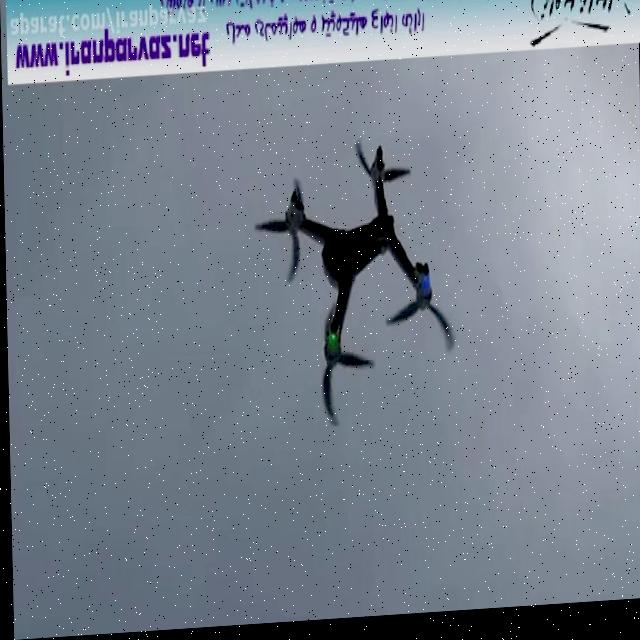drone: (244, 136, 457, 440)
